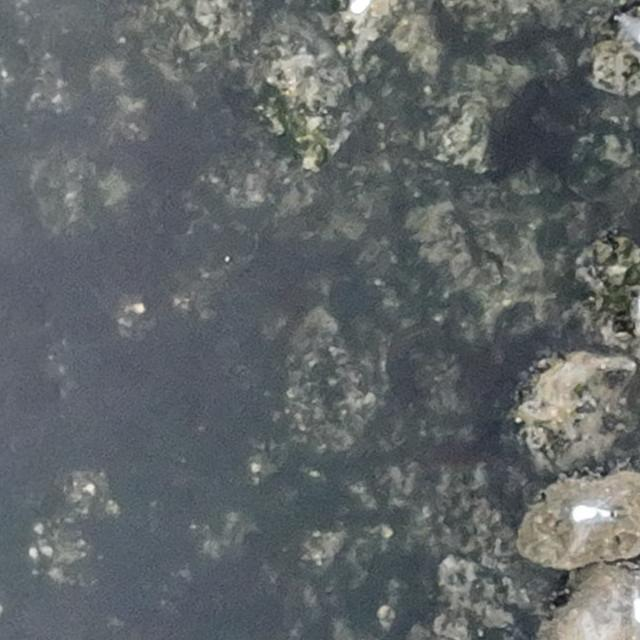umineko: (569, 504, 618, 526)
